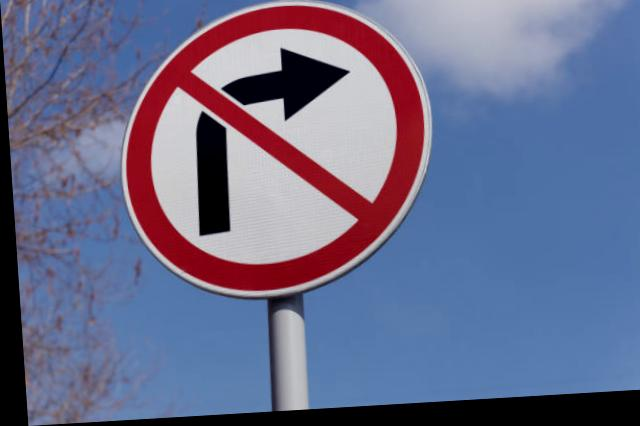not_turn_right: (107, 0, 440, 313)
